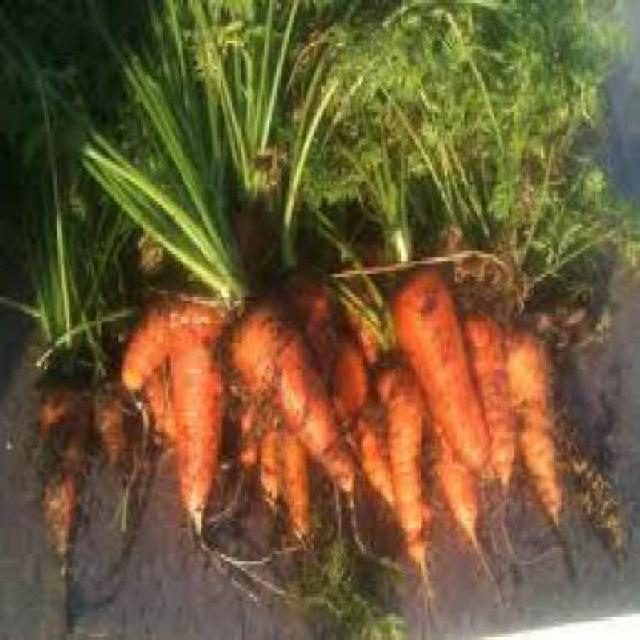BIODEGRADABLE: (372, 0, 630, 314), (0, 0, 251, 308), (1, 1, 133, 379), (272, 0, 438, 268), (274, 0, 426, 265), (116, 277, 230, 531), (222, 286, 353, 502), (174, 0, 306, 202), (285, 258, 392, 498), (388, 257, 487, 468), (517, 175, 637, 298), (225, 369, 306, 542), (282, 521, 400, 637), (370, 347, 428, 581), (504, 317, 561, 525), (306, 204, 386, 334), (459, 300, 512, 492), (31, 383, 84, 571), (425, 412, 480, 542), (341, 234, 385, 369), (88, 372, 132, 458)
